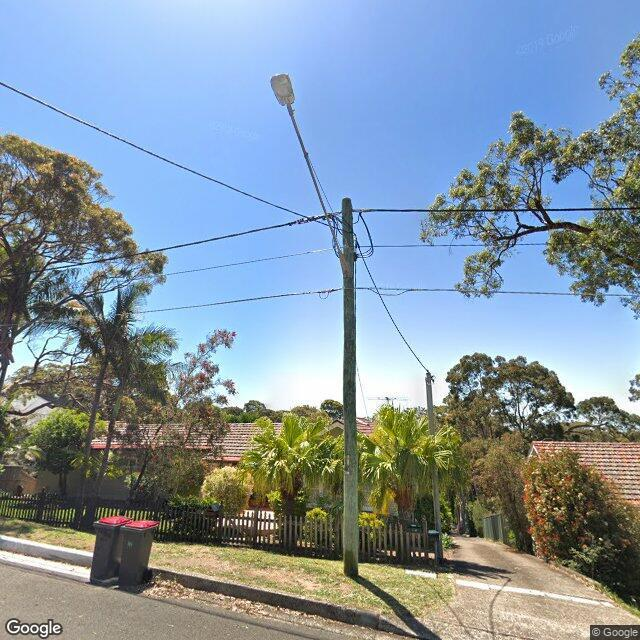streetlight: (270, 73, 353, 275)
timber-pole: (338, 197, 359, 579), (424, 372, 444, 568)
